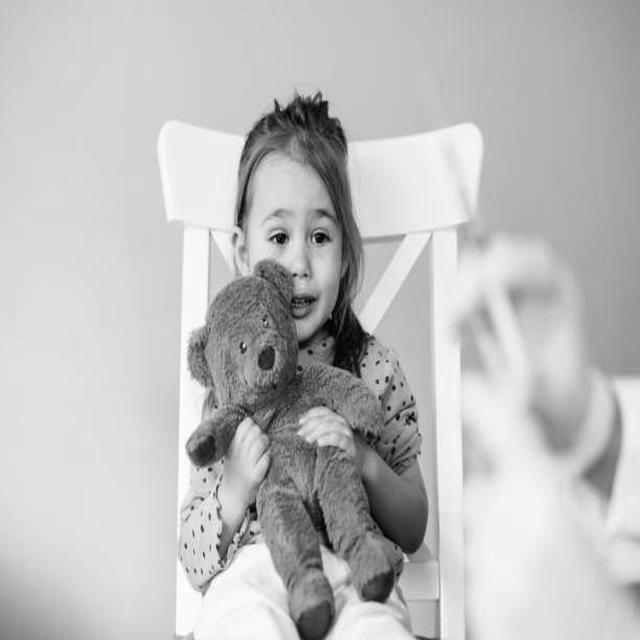Fear: (258, 155, 340, 341)
